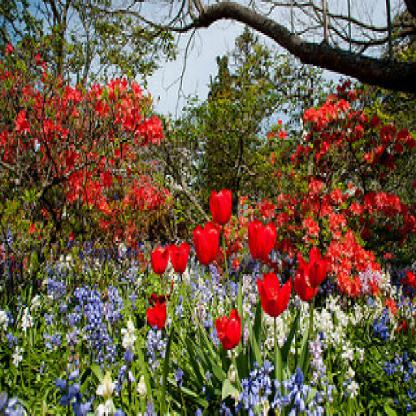TULIP: (196, 176, 335, 364), (136, 225, 199, 332)
